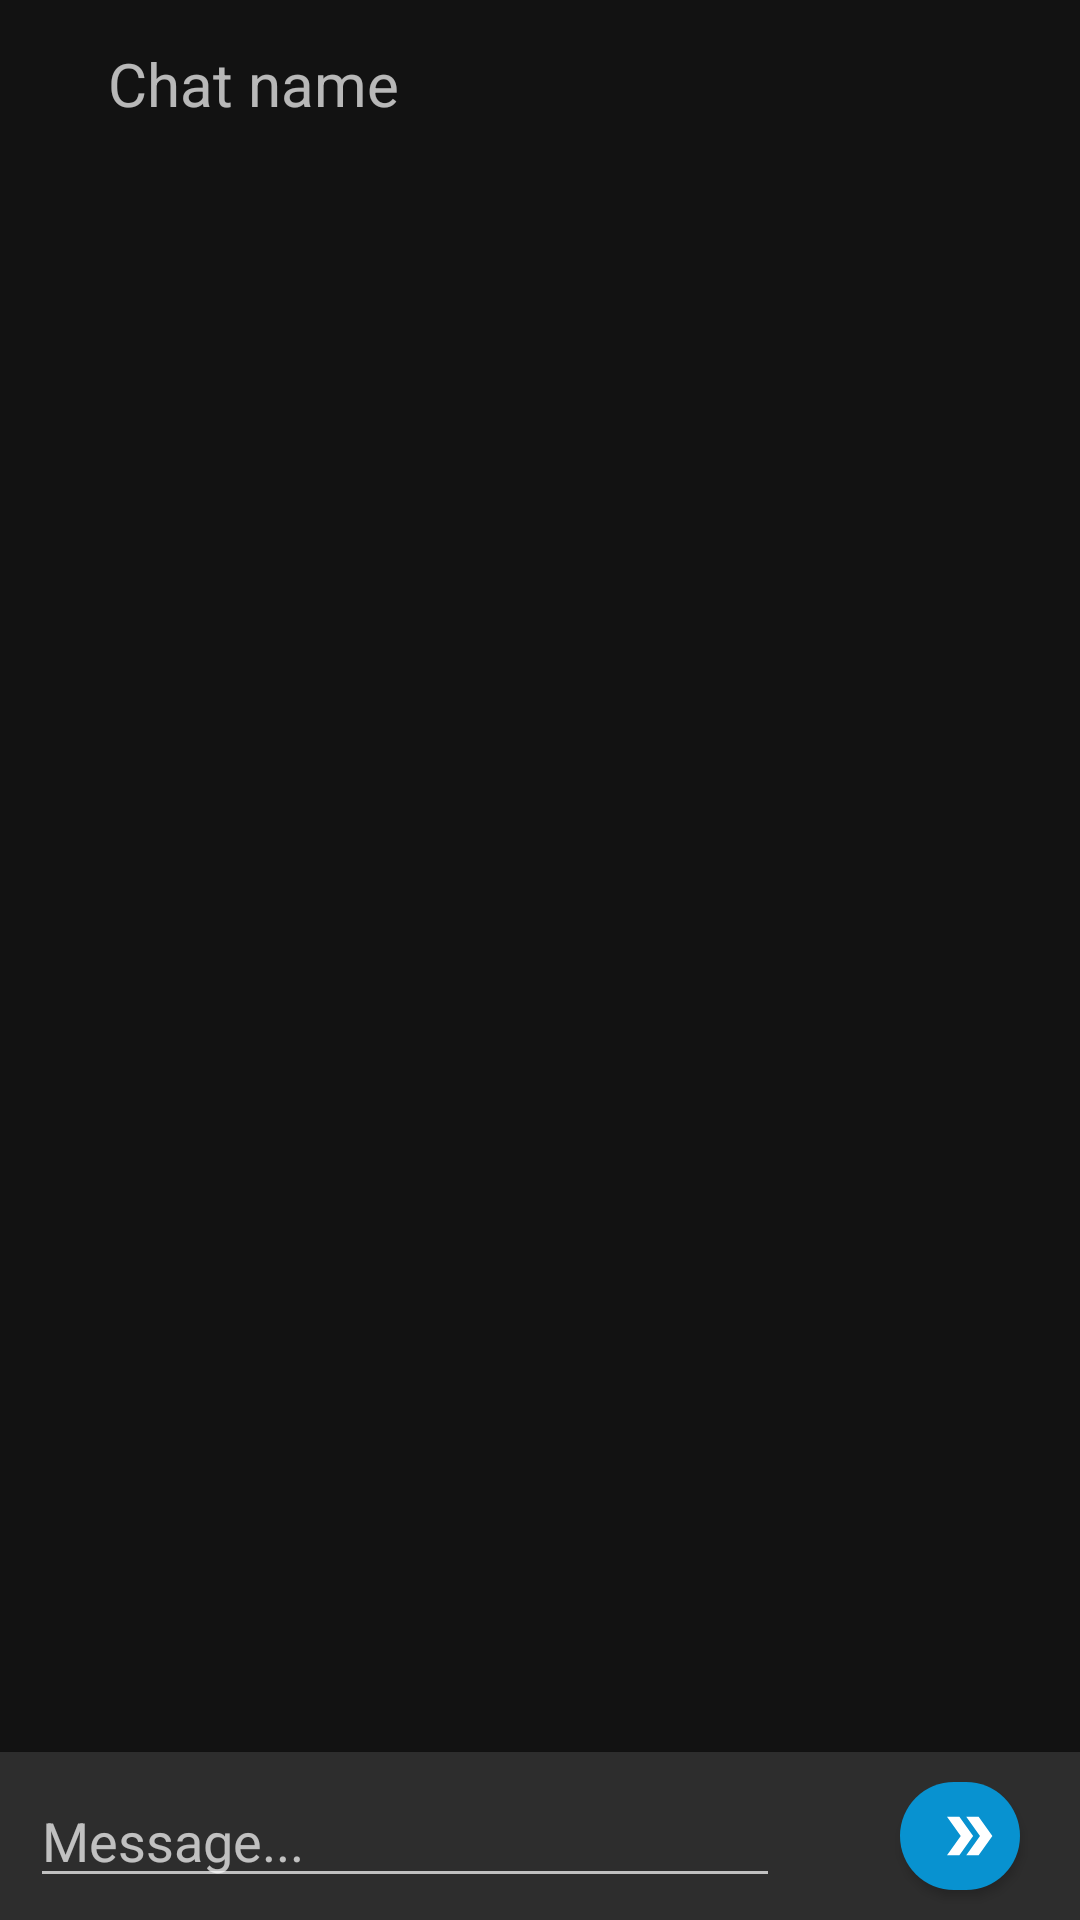

Where icons sit on this 1080px×1920px app screen, as {"x1": x1, "y1": y1, "x2": x2, "y2": y2}:
arrow: {"x1": 900, "y1": 1782, "x2": 1020, "y2": 1890}
